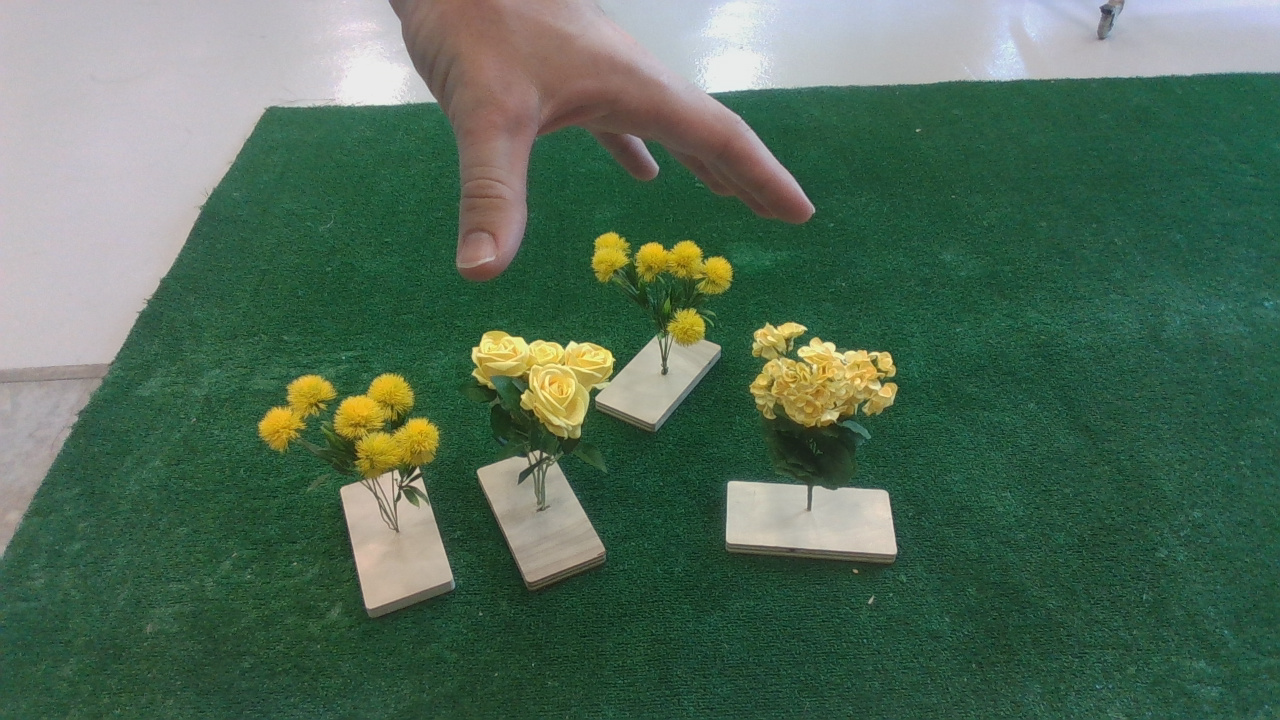dandelion: (245, 368, 449, 486), (577, 218, 744, 342)
geranium: (746, 317, 910, 475)
rose: (461, 329, 625, 461)
